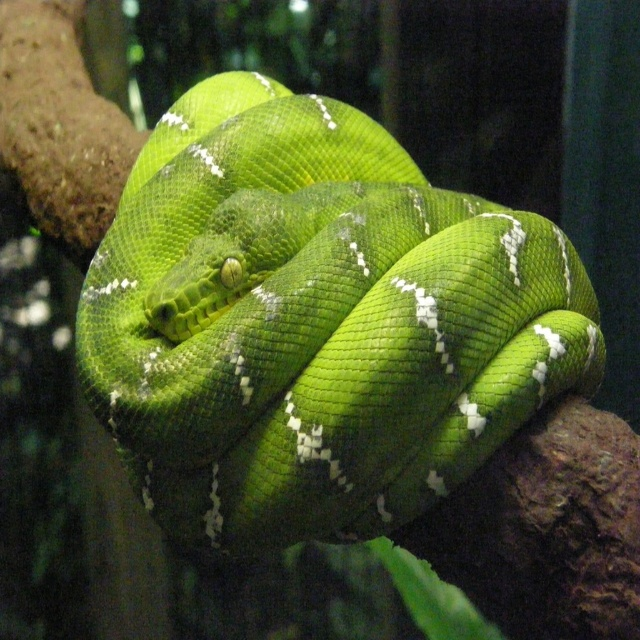Snake: (76, 70, 604, 532)
